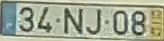0: (112, 9, 128, 35)
3: (18, 5, 35, 32)
4: (35, 5, 53, 34)
8: (130, 9, 146, 36)
J: (84, 7, 102, 36)
N: (62, 7, 83, 34)
